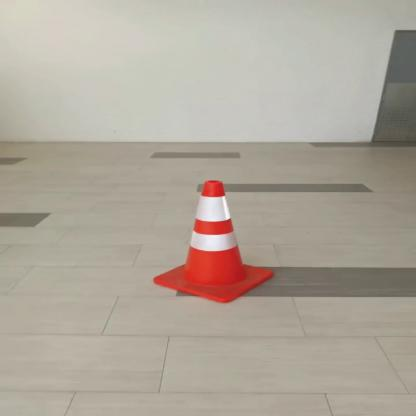cone: (150, 177, 284, 306)
